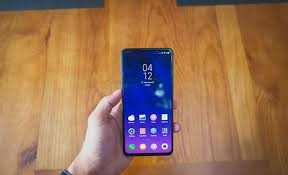mi: (118, 41, 178, 157)
